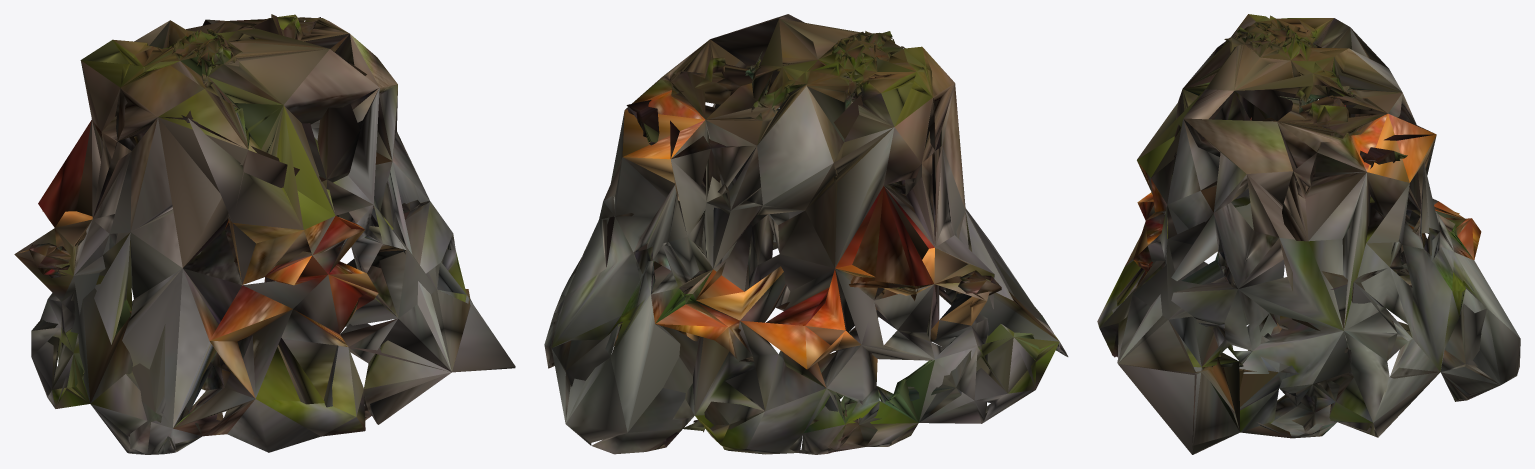
Rendered from baum-stumpf.glb.
The picture shows the model from 3 angles, left to right: view 1: azimuth 30°, elevation 25°; view 2: azimuth 150°, elevation 25°; view 3: azimuth 270°, elevation 25°; orthographic projection. The views are drawn at different scales.
Parts seen in each view (by area): view 1: Mesh_0; view 2: Mesh_0; view 3: Mesh_0.
Part boxes in pixels (x1,y1,x2,y2): Mesh_0: [14, 14, 515, 454]; Mesh_0: [544, 14, 1068, 454]; Mesh_0: [1097, 14, 1520, 454].
Size of the model in its own units: 1.95 by 1.58 by 1.93.
Materials: 1 (1 with a texture image).
